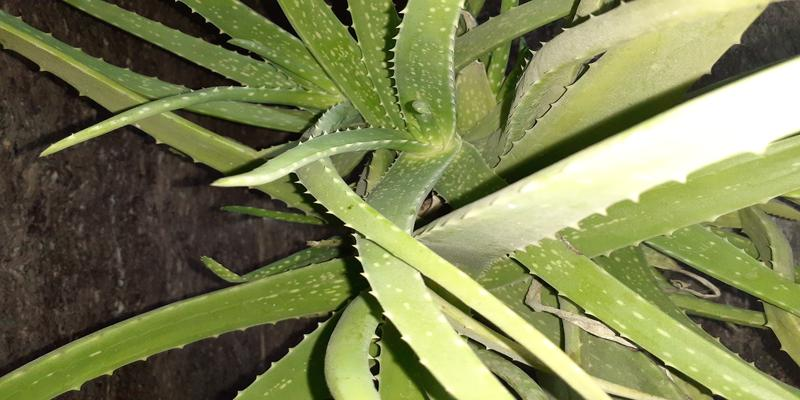Aloevera: (156, 23, 769, 383)
